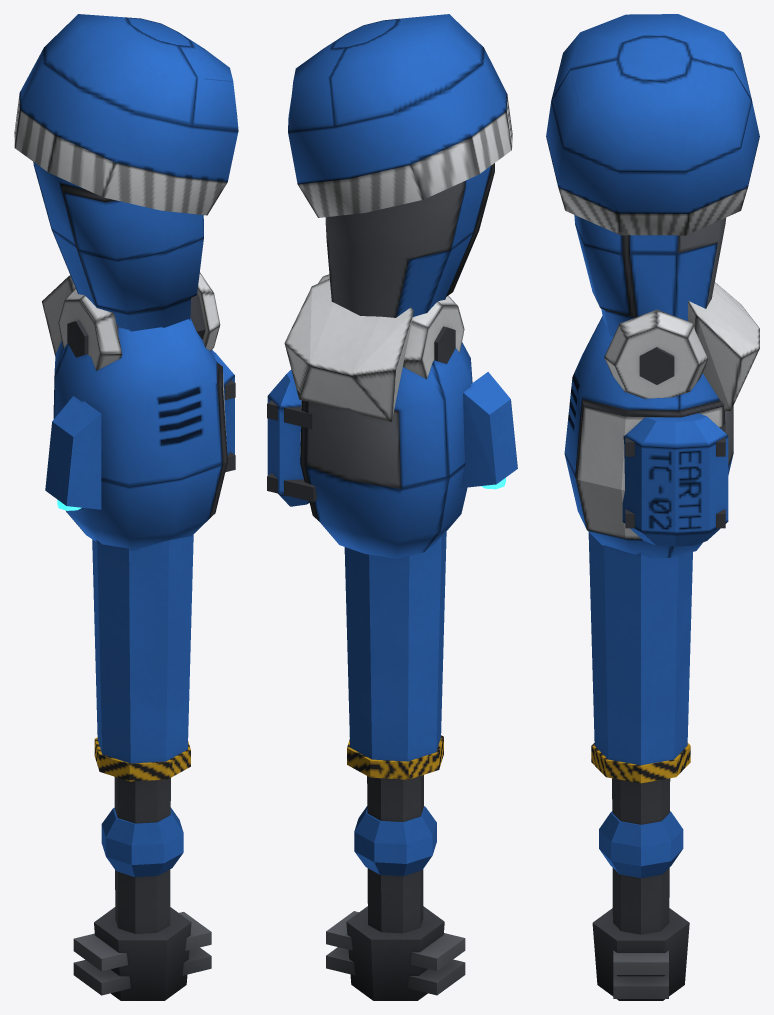
Rendered from RightTankCannonArmX.glb.
3 renders of one model, left to right at view 1: azimuth 30°, elevation 25°; view 2: azimuth 150°, elevation 25°; view 3: azimuth 270°, elevation 25°, orthographic.
Parts seen in each view (by area): view 1: RightTankCannonArmX_Fore, RightTankCannonArmX_Upper; view 2: RightTankCannonArmX_Fore, RightTankCannonArmX_Upper; view 3: RightTankCannonArmX_Fore, RightTankCannonArmX_Upper.
Boxes of the visible parts, box(x1,y1,x2,y2) form: RightTankCannonArmX_Fore: box(42, 272, 235, 1000); RightTankCannonArmX_Upper: box(14, 14, 238, 331); RightTankCannonArmX_Fore: box(267, 274, 517, 1000); RightTankCannonArmX_Upper: box(288, 14, 512, 317); RightTankCannonArmX_Fore: box(564, 282, 759, 1000); RightTankCannonArmX_Upper: box(546, 14, 759, 336).
Size of the model in its own units: 4.39 by 19.9 by 4.05.
7 materials, 6 textured.
